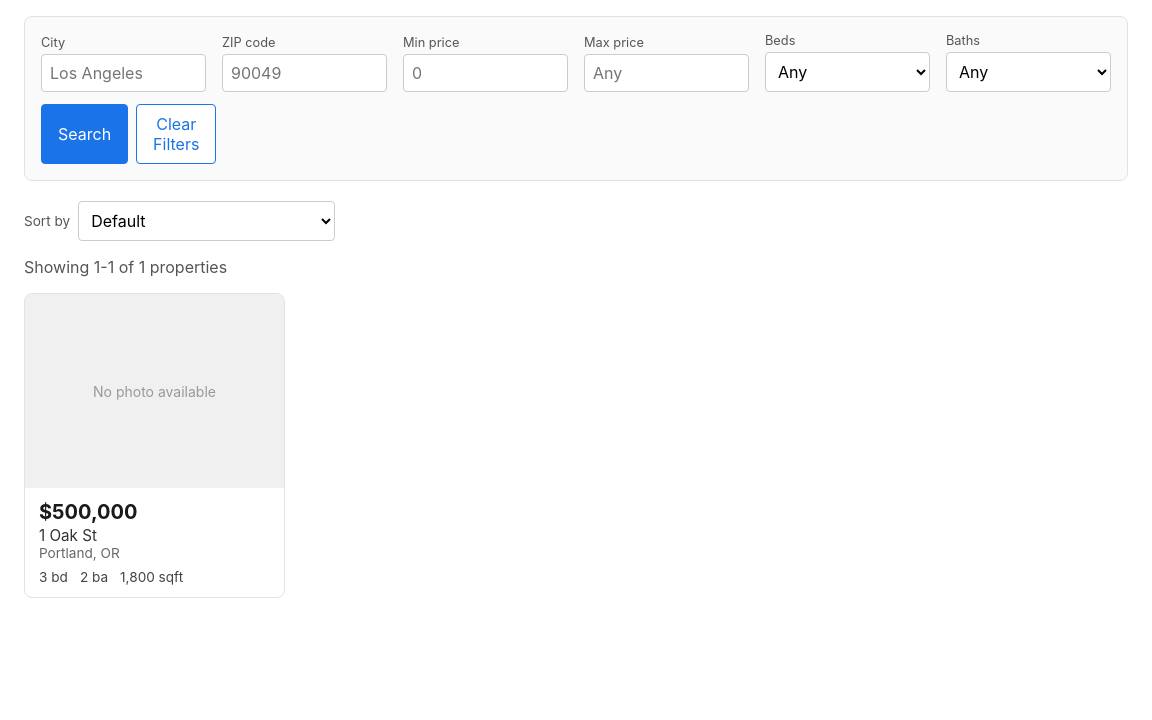
ListingsPage › never renders a stale response that resolves after a newer request
Type "Portland" into the field labelled "City". click: x=124, y=73
box: 41,54 -> 206,92
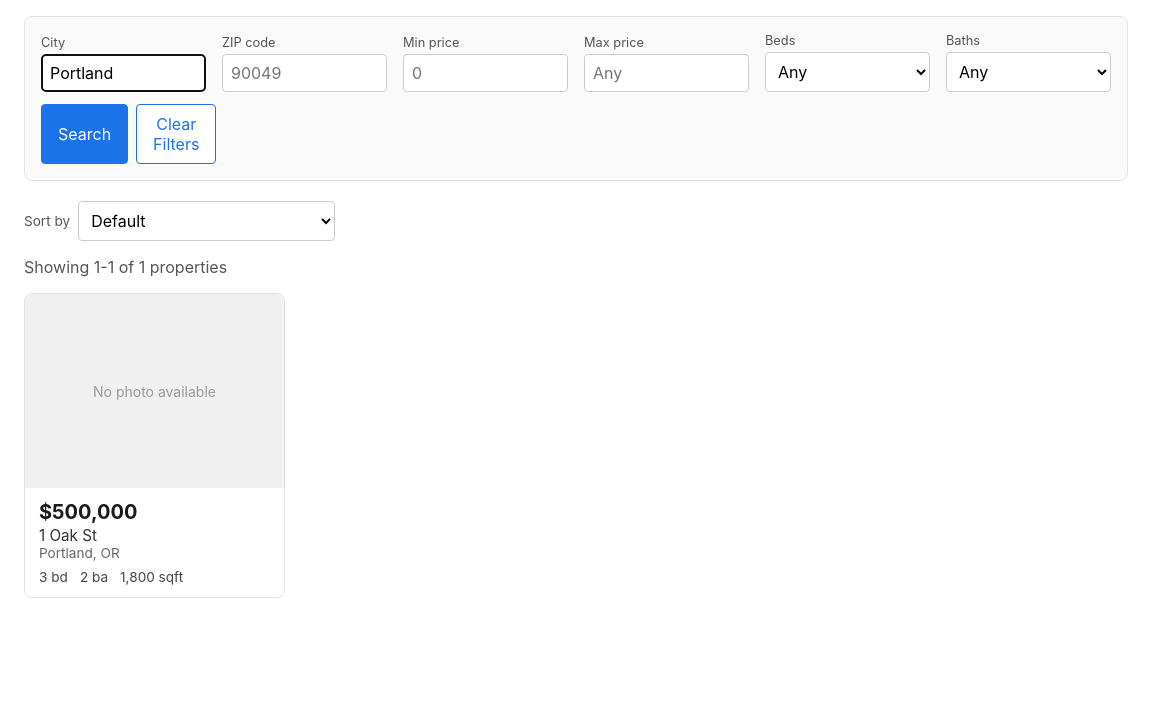
Click the button "Search". click: x=85, y=134
box: 41,104 -> 128,164
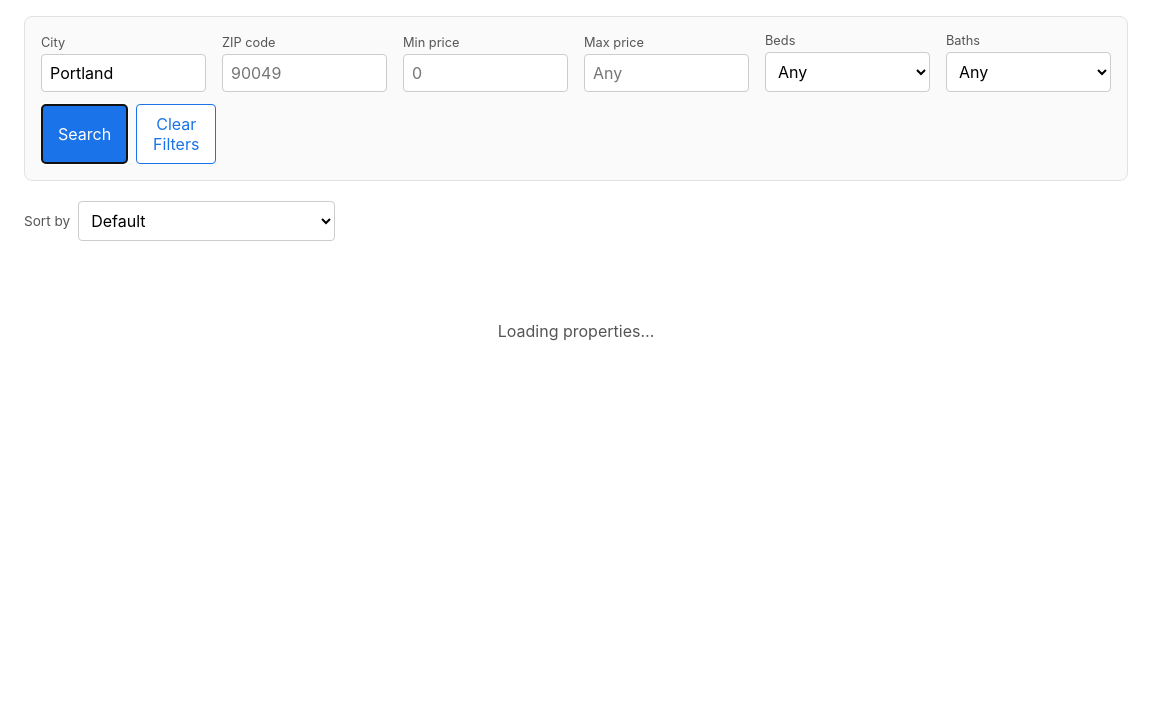
Click the button "Clear Filters". click: x=176, y=134
box: 136,104 -> 216,164
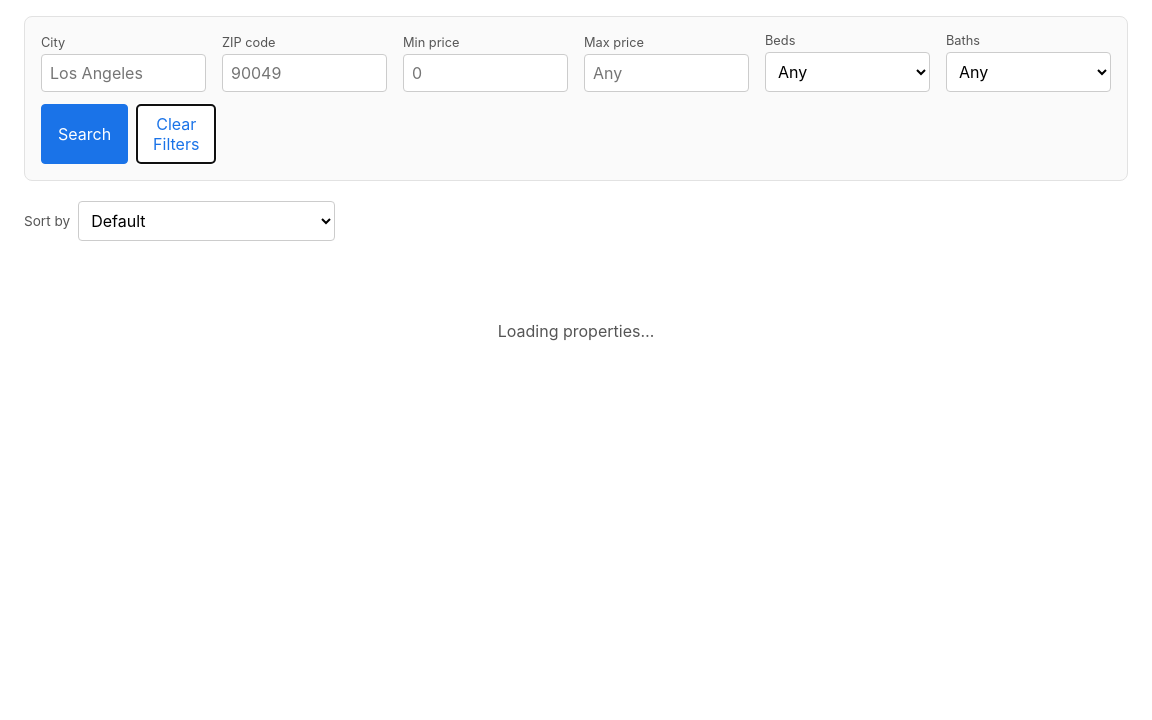
Type "Seattle" into the field labelled "City". click: x=124, y=73
box: 41,54 -> 206,92
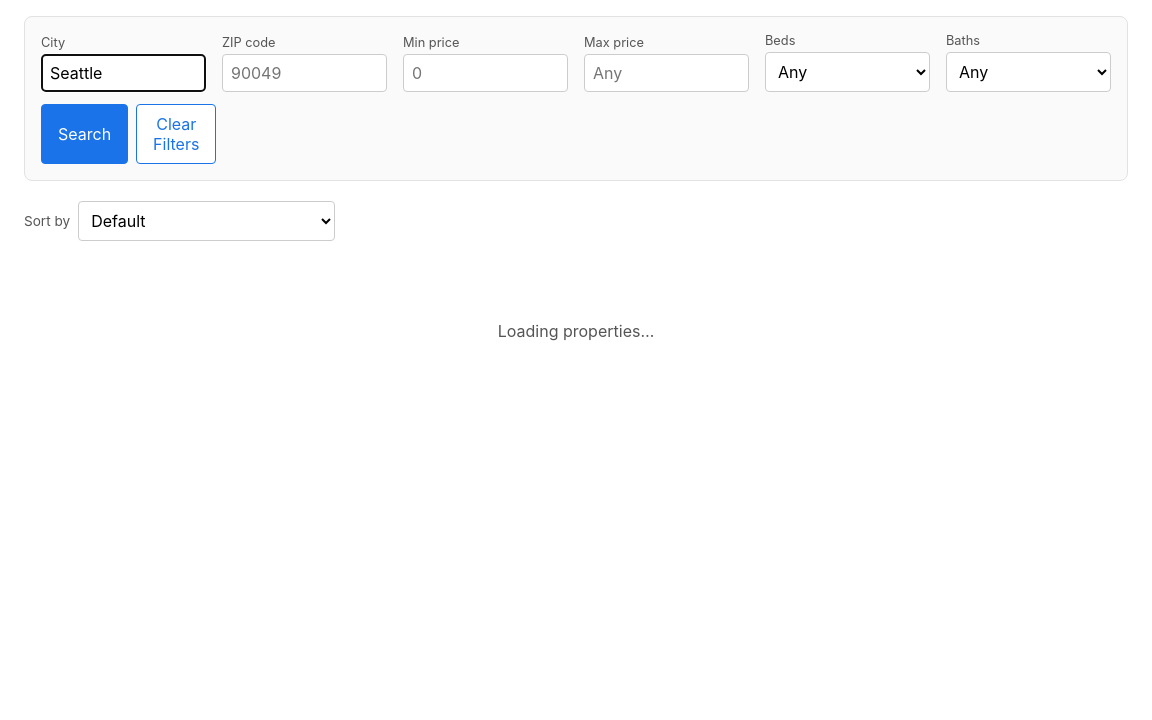
Click the button "Search". click: x=85, y=134
box: 41,104 -> 128,164
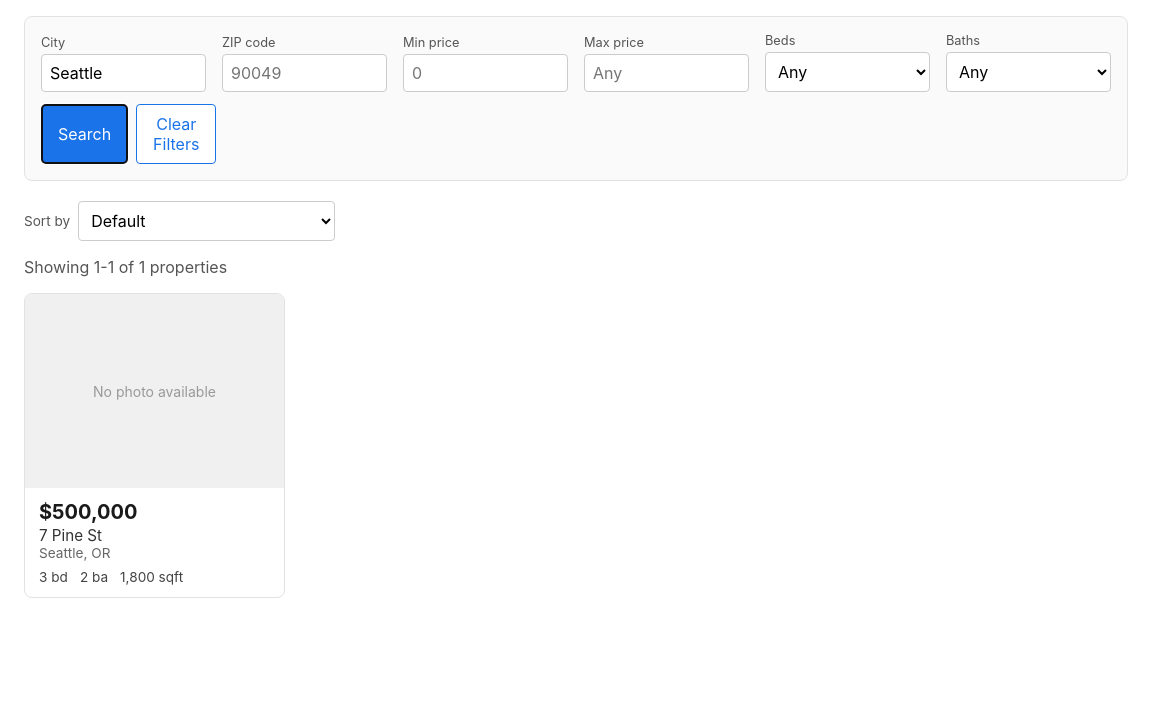
Result: the text "7 Pine St" is shown at 39,526 -> 102,545
